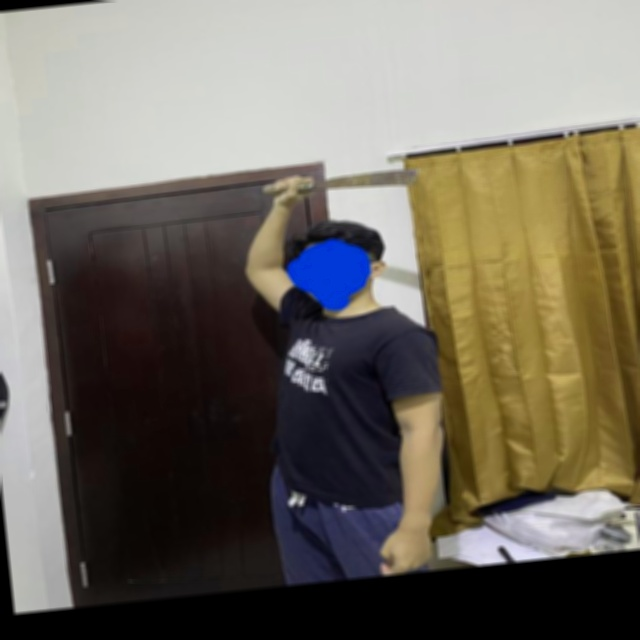Sharp-Object: (258, 165, 425, 203)
